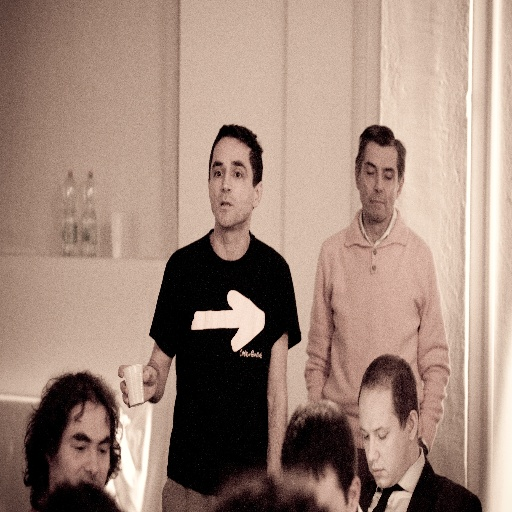hand: (123, 358, 163, 416)
